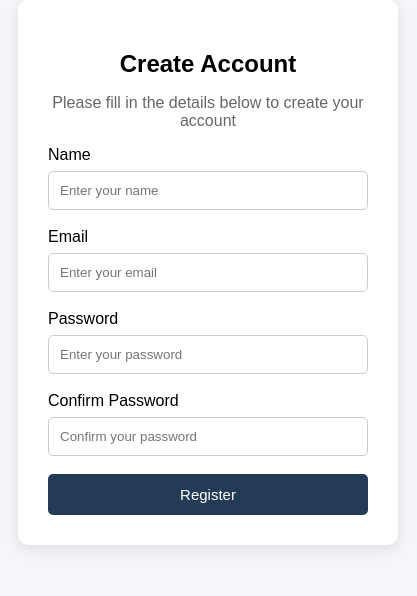
Test case: Register Component › should show backend error when registration fails
The image size is (417, 596).
Type "Shipra" into the field with placeholder "Enter your name".
click(208, 190); type("Shipra")  # box 48,171 -> 368,210
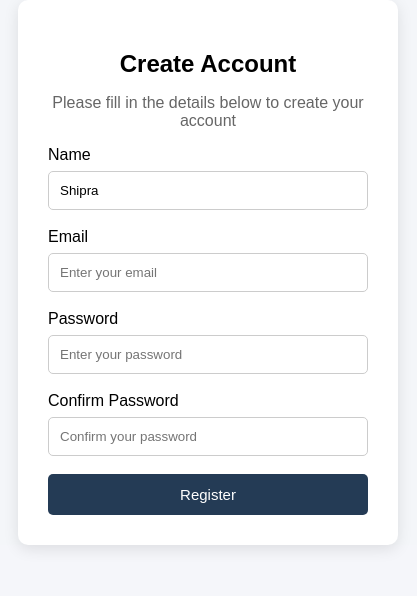
Type "shipra@gmail.com" into the field with placeholder "Enter your email".
click(208, 272); type("shipra@gmail.com")  # box 48,253 -> 368,292
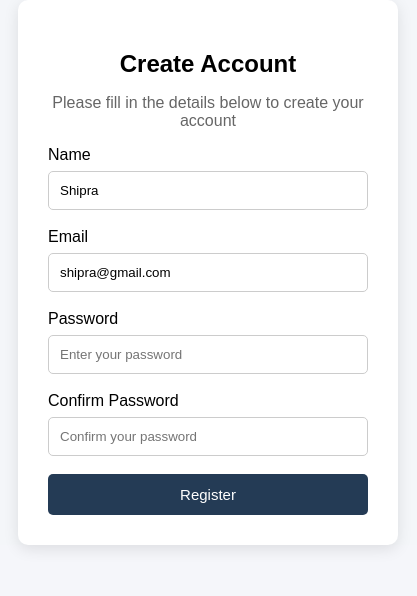
Type "Shipra@123" into the password field with placeholder "Enter your password".
click(208, 354); type("Shipra@123")  # box 48,335 -> 368,374
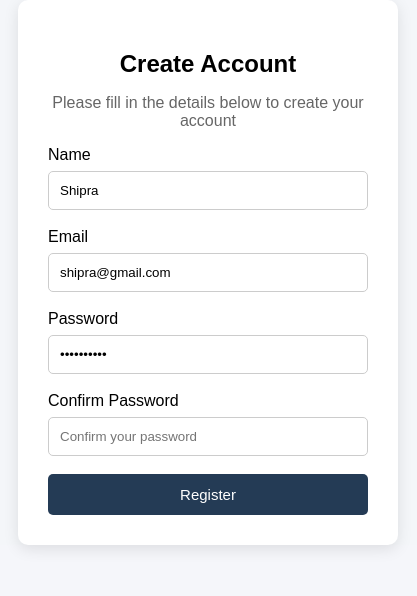
Type "Shipra@123" into the password field with placeholder "Confirm your password".
click(208, 436); type("Shipra@123")  # box 48,417 -> 368,456
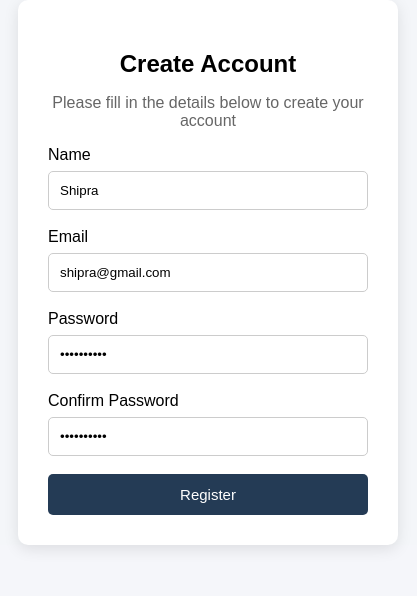
Click the button "Register".
click(208, 494)  # box 48,474 -> 368,515
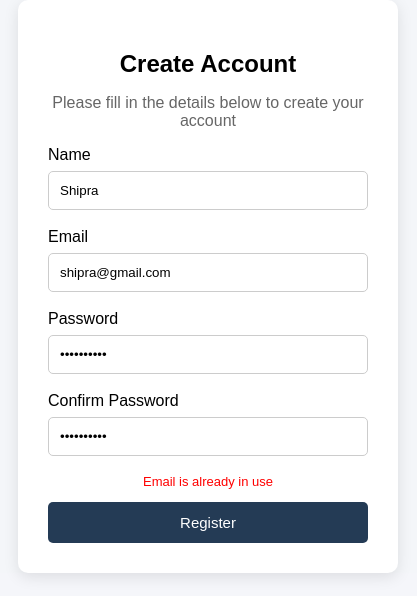
Result: the text "Email is already in use" is shown at 143,474 -> 273,489
